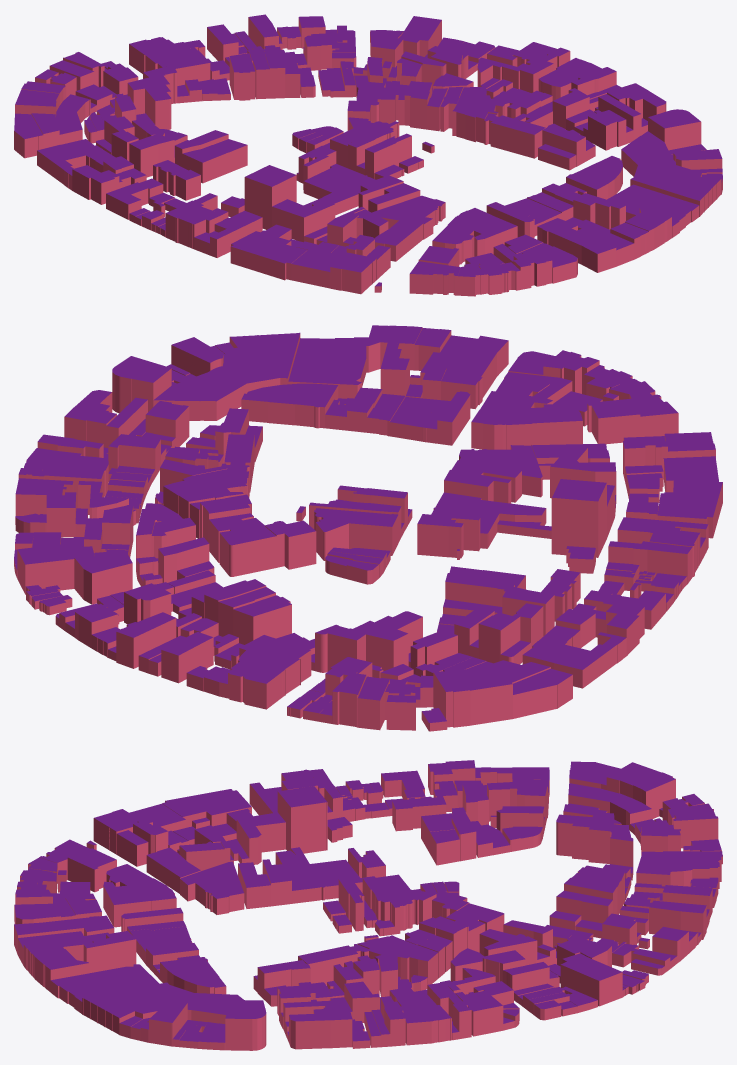
Rendered from centrum_004.glb.
3 views of the same model, one above another, from view 1: azimuth 30°, elevation 25°; view 2: azimuth 150°, elevation 25°; view 3: azimuth 270°, elevation 25° (orthographic). The views are drawn at different scales.
Visible parts, largest first — view 1: map.osm_buildings.198; view 2: map.osm_buildings.198; view 3: map.osm_buildings.198.
Part boxes in pixels (<box>): map.osm_buildings.198: <box>14,14,722,296</box>; map.osm_buildings.198: <box>14,325,722,731</box>; map.osm_buildings.198: <box>14,760,722,1050</box>.
Bounding box in the file's own units: 359 × 30 × 401.
